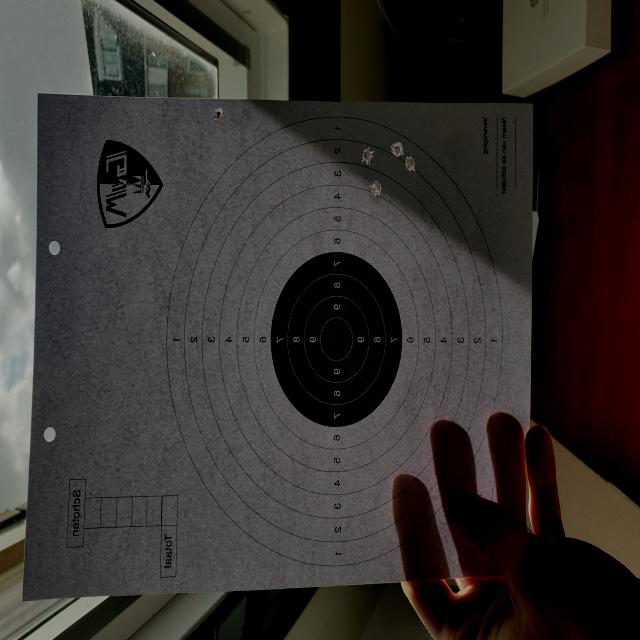0: (213, 108, 223, 121)
1: (391, 141, 404, 158)
2: (362, 147, 374, 166), (405, 156, 416, 172)
4: (370, 180, 381, 197)
Target: (165, 116, 505, 569)
black_contour: (271, 252, 402, 427)
